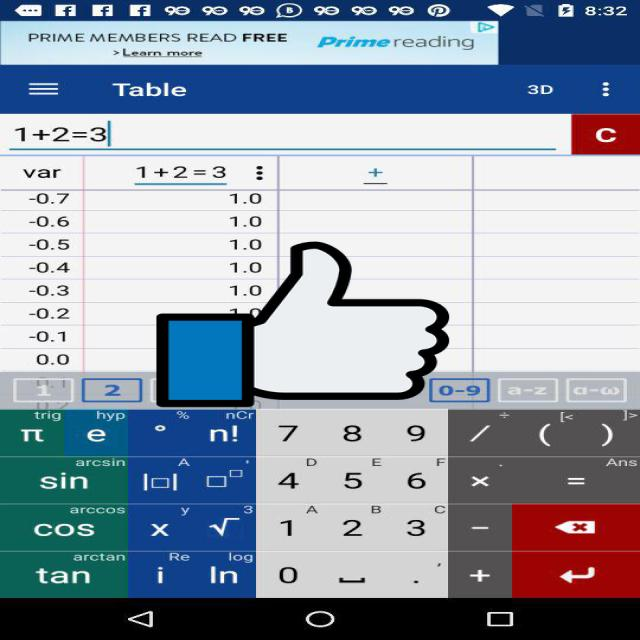privacy zuckering: (157, 238, 449, 411)
